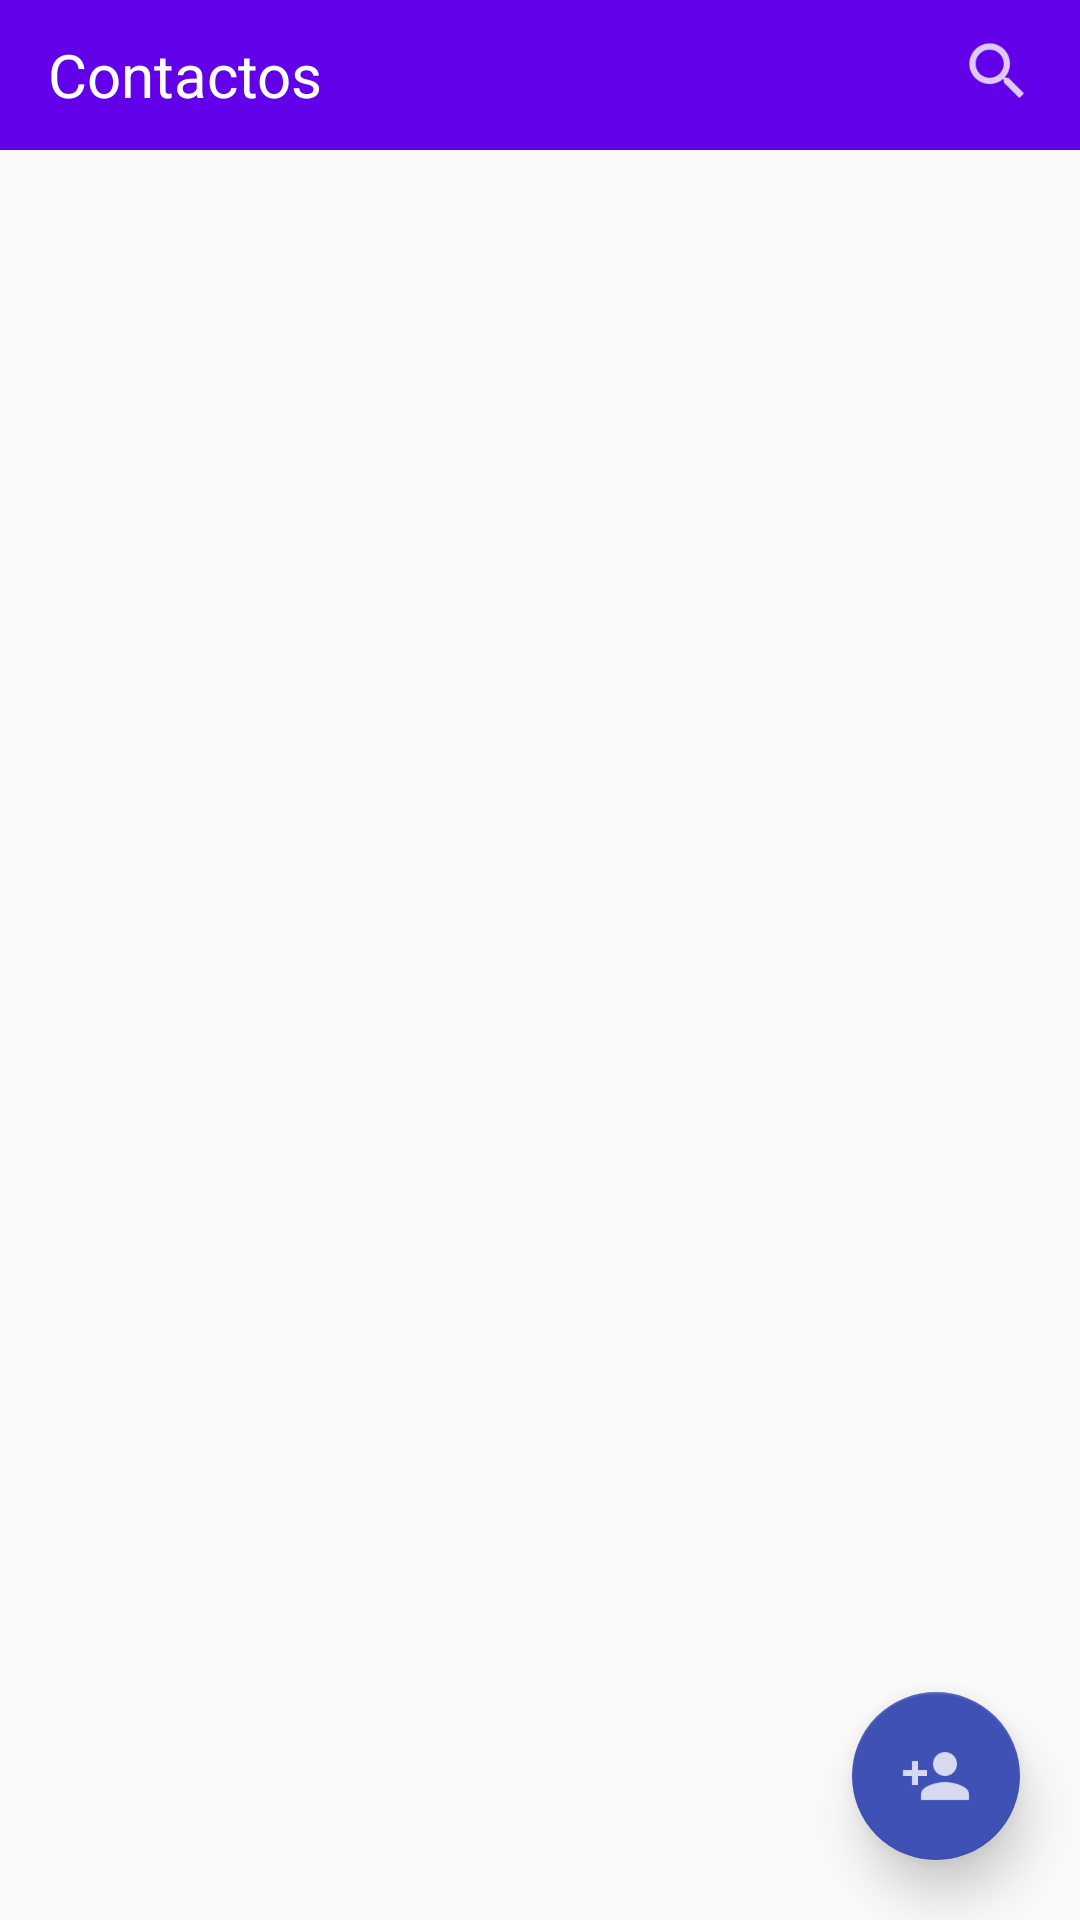

Where icons sit on this 1080 × 1920 app screen, as detection(x1, y1, x2, y2):
person add: detection(852, 1692, 1020, 1860)
seach: detection(969, 43, 1024, 98)
